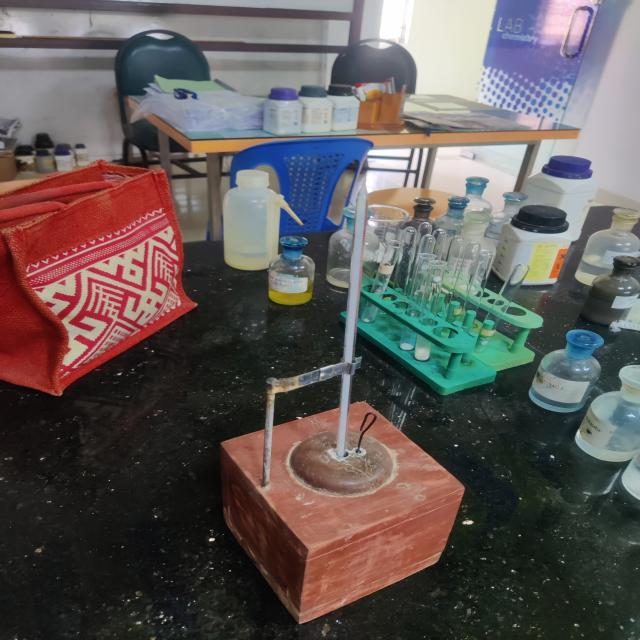Calorimeter: (180, 163, 542, 635)
